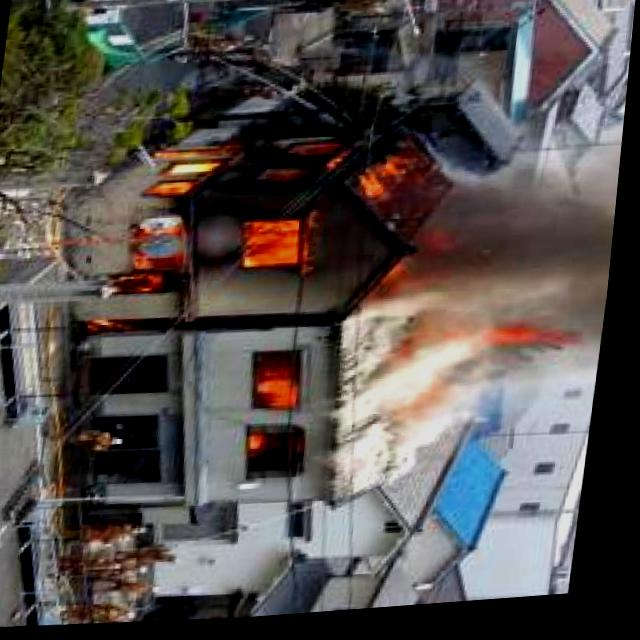no_helmet: (358, 155, 625, 471)
